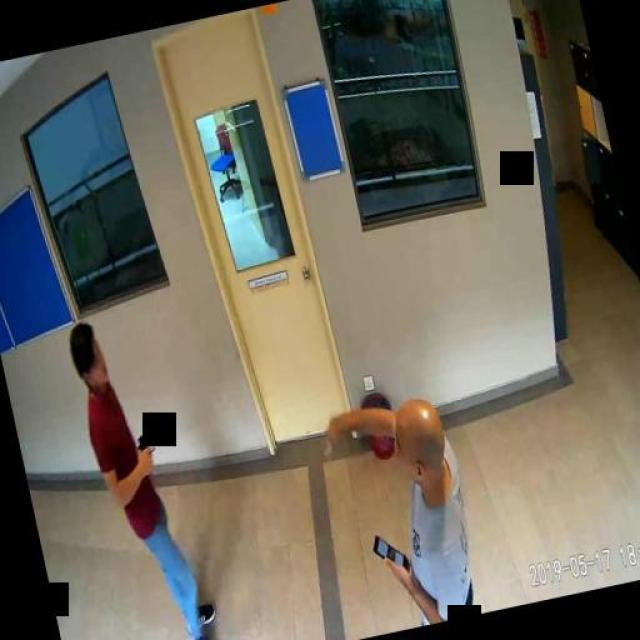gun: (134, 425, 168, 470)
